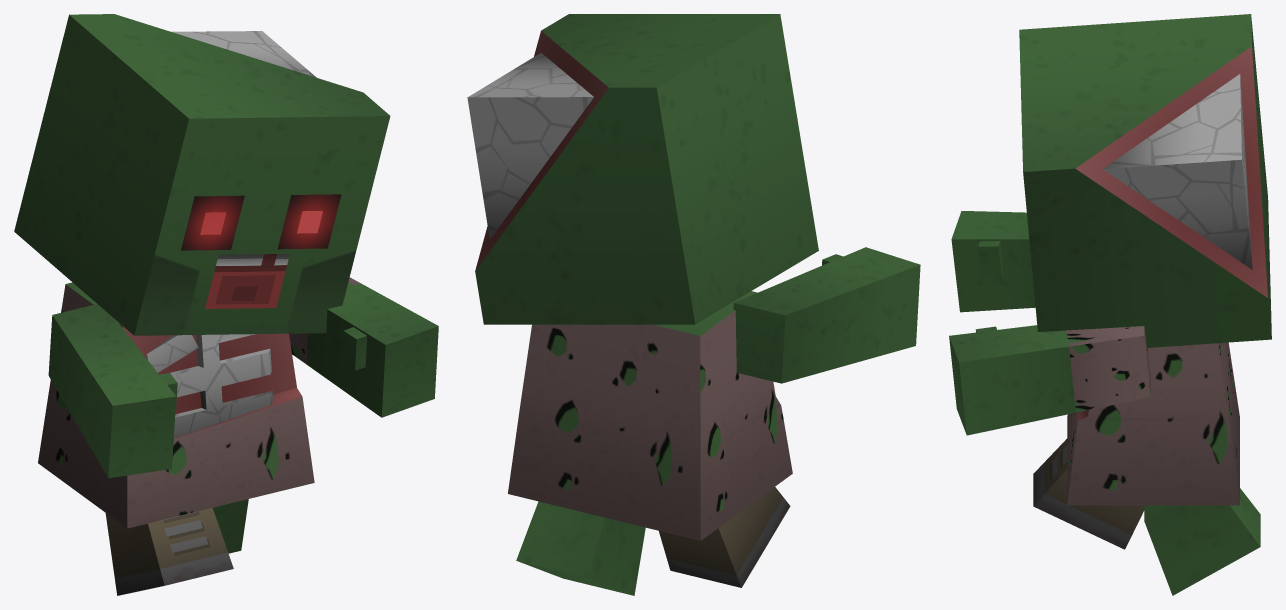
File: Zombie (Die).FBX
3 views of the same model, side by side, from view 1: azimuth 30°, elevation 25°; view 2: azimuth 150°, elevation 25°; view 3: azimuth 270°, elevation 25° (orthographic). The views are drawn at different scales.
Parts seen in each view (by area): view 1: Object001, Box008, Object003, Object002, Object005, Object004; view 2: Object001, Box008, Object003, Object004, Object005; view 3: Object001, Box008, Object002, Object003, Object004, Object005.
Part boxes in pixels (x1,y1,x2,y2): Object001: (14, 14, 390, 335); Box008: (38, 282, 314, 528); Object003: (48, 304, 177, 478); Object002: (289, 277, 438, 417); Object005: (105, 508, 233, 595); Object004: (213, 499, 248, 553); Object001: (467, 14, 818, 324); Box008: (508, 291, 792, 540); Object003: (733, 247, 920, 383); Object004: (516, 501, 645, 595); Object005: (659, 487, 790, 587); Object001: (1019, 14, 1271, 347); Box008: (1067, 342, 1239, 505); Object002: (949, 325, 1150, 435); Object003: (951, 211, 1035, 312); Object004: (1144, 488, 1260, 595); Object005: (1033, 438, 1144, 549).
Bounding box in the file's own units: 15.14 × 23.98 × 13.49.
